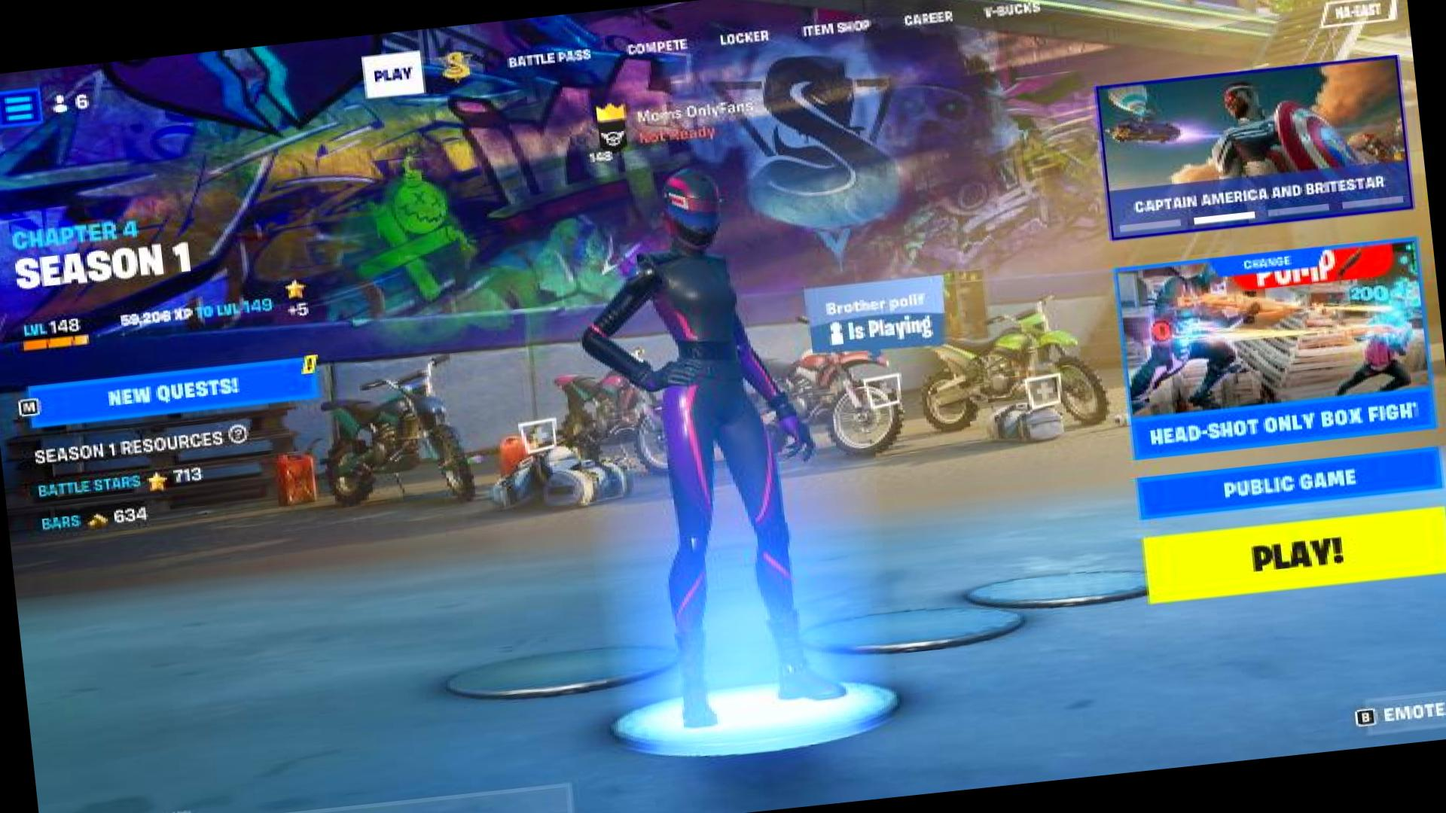player: (568, 149, 863, 736)
